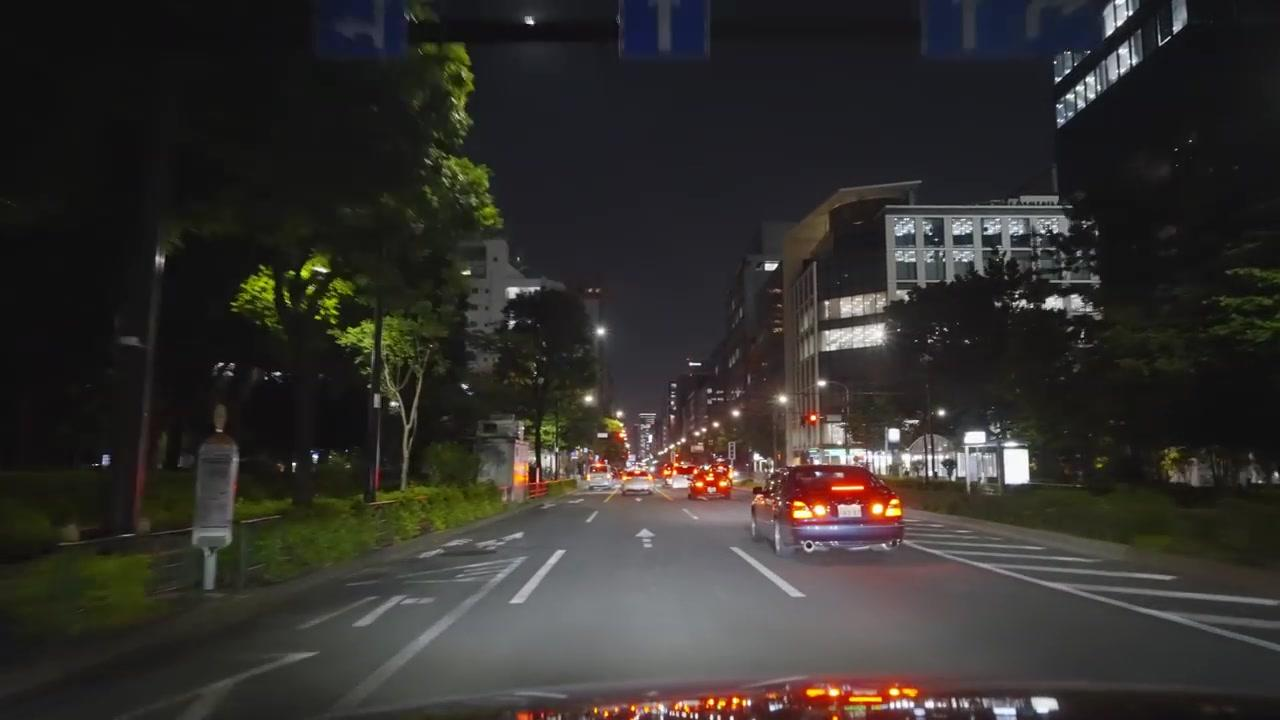car: (748, 464, 905, 557), (688, 469, 731, 500), (620, 472, 654, 498)
traffic light: (668, 384, 677, 413), (806, 413, 818, 426)
